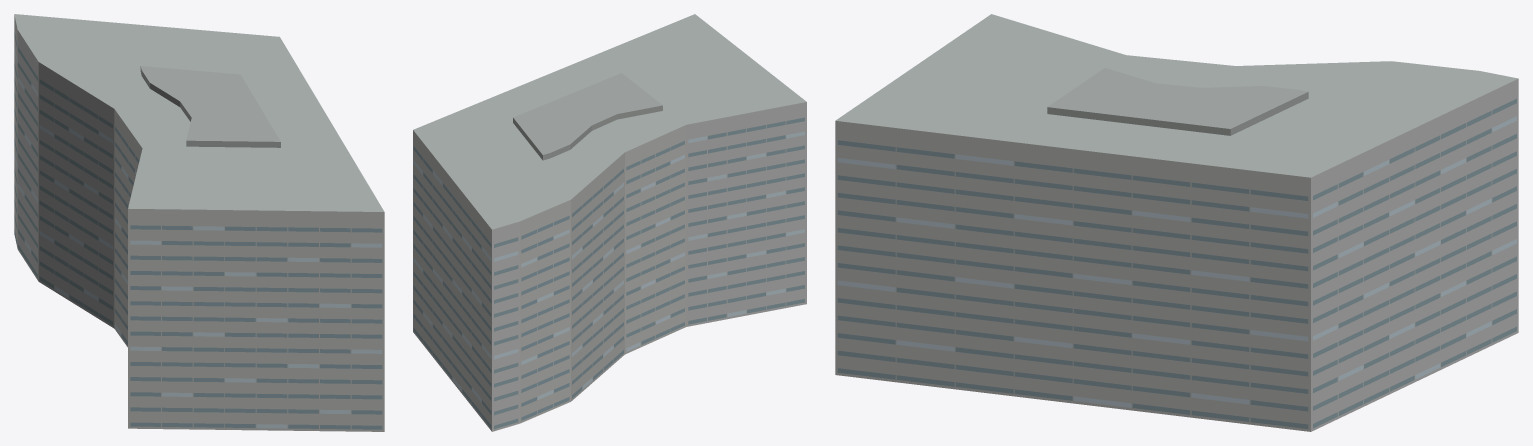
Rendered from apt-a10023709.glb.
The picture shows the model from 3 angles, left to right: view 1: azimuth 30°, elevation 25°; view 2: azimuth 150°, elevation 25°; view 3: azimuth 270°, elevation 25°; orthographic projection. The views are drawn at different scales.
Parts seen in each view (by area): view 1: apt-a10023709; view 2: apt-a10023709; view 3: apt-a10023709.
Boxes of the visible parts, x1,y1,x2,y2 form: apt-a10023709: (14, 14, 384, 431); apt-a10023709: (413, 14, 806, 431); apt-a10023709: (835, 14, 1518, 431).
Size of the model in its own units: 122 by 90.85 by 216.
